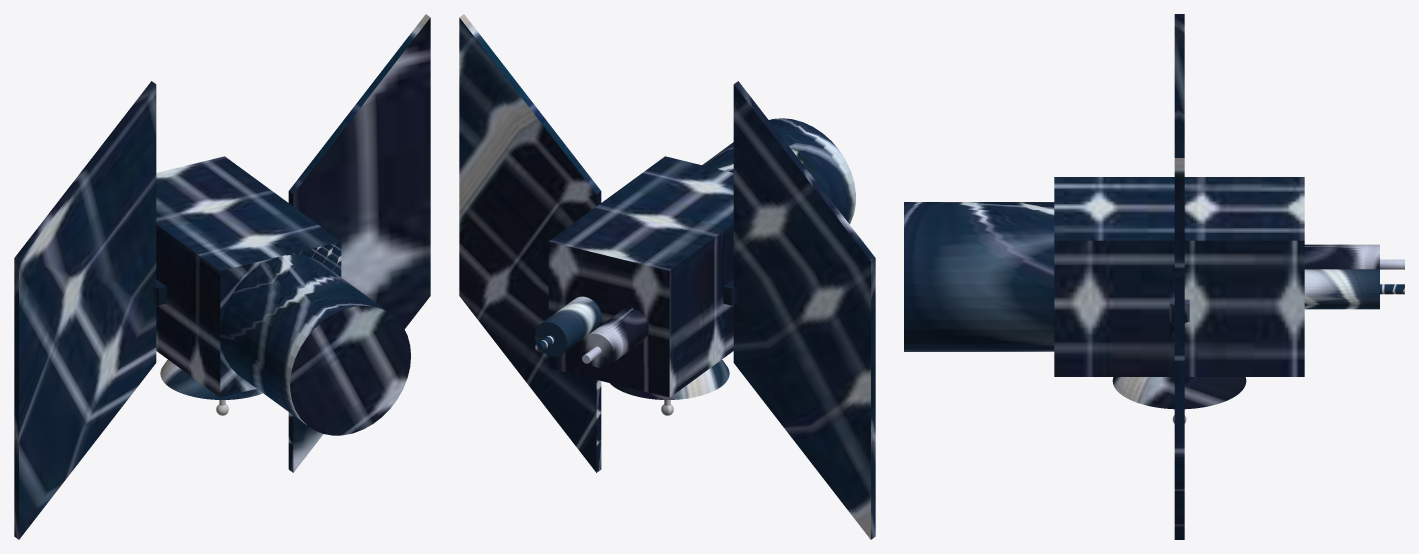
File: target-satellite.obj
3 views of the same model, side by side, from view 1: azimuth 30°, elevation 25°; view 2: azimuth 150°, elevation 25°; view 3: azimuth 270°, elevation 25° (orthographic). The views are drawn at different scales.
Visible parts, largest first — view 1: TargetSatellite; view 2: TargetSatellite; view 3: TargetSatellite.
Part boxes in pixels (x1,y1,x2,y2): TargetSatellite: [14, 14, 430, 539]; TargetSatellite: [459, 14, 875, 539]; TargetSatellite: [904, 14, 1404, 539].
Size of the model in its own units: 1.02 by 1 by 1.
